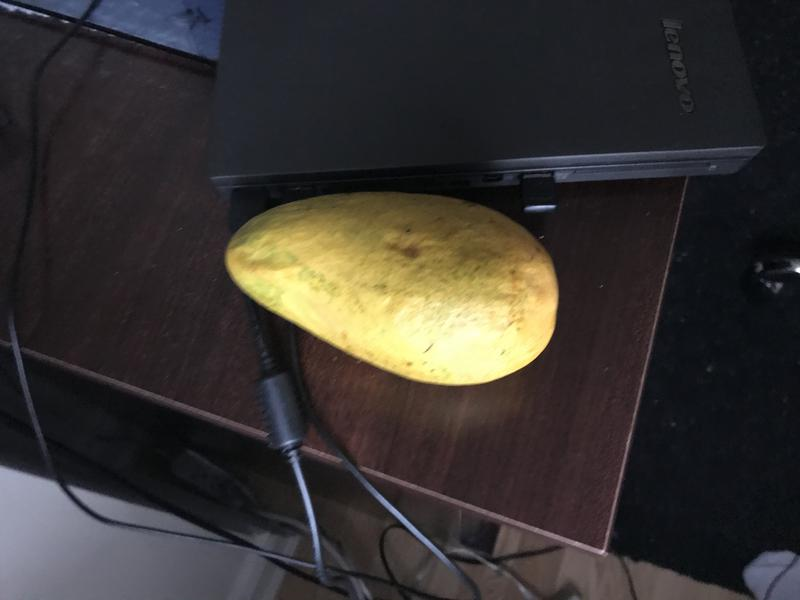mango: (213, 183, 566, 397)
